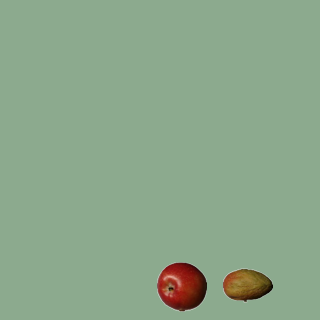Apple Braeburn: (156, 261, 206, 311)
Papaya: (222, 260, 272, 310)
